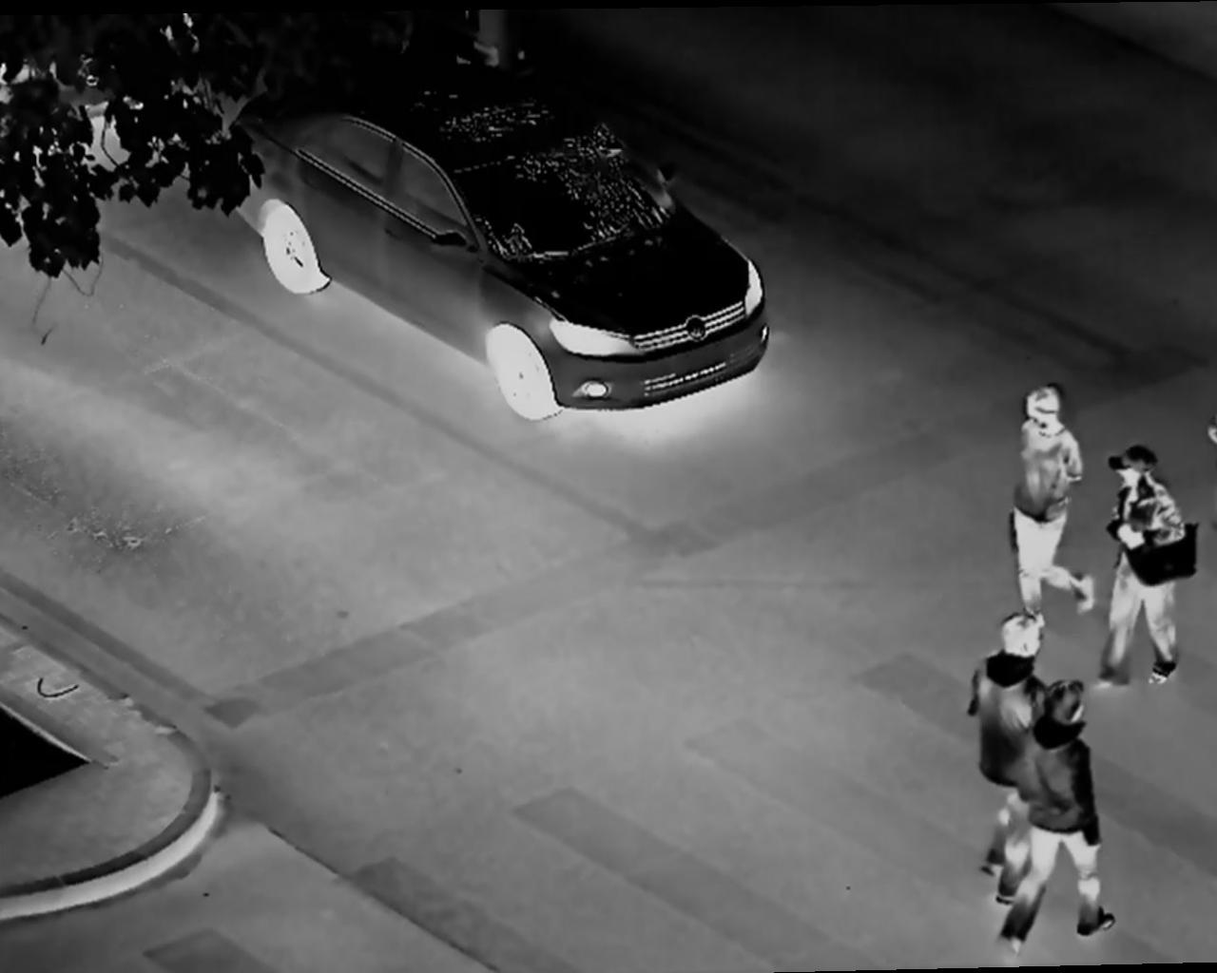person: (1016, 680, 1113, 949), (1105, 443, 1201, 700), (1009, 379, 1096, 639), (971, 611, 1046, 818)
